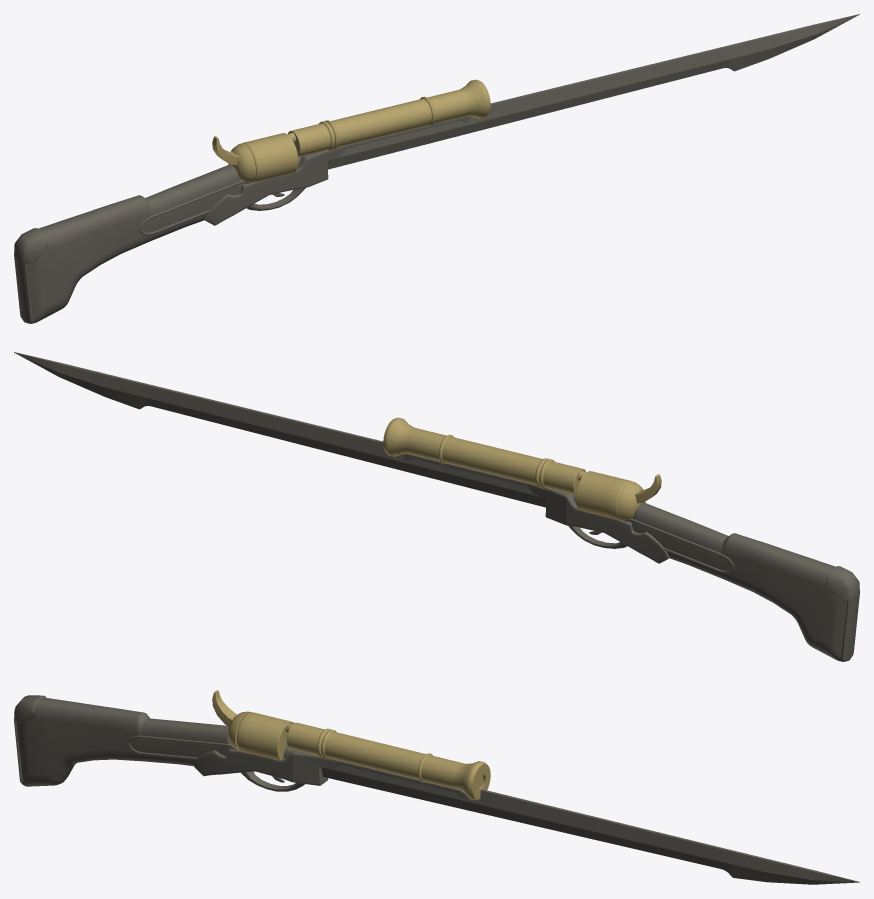
File: Sniper Gun.fbx
3 views of the same model, one above another, from view 1: azimuth 30°, elevation 25°; view 2: azimuth 150°, elevation 25°; view 3: azimuth 330°, elevation 25° (orthographic).
Visible parts, largest first — view 1: Handle_low, Blade_low, Barrel1_low, Frame_low, Cylinder_low, Engraving_low; view 2: Handle_low, Blade_low, Barrel1_low, Frame_low, Cylinder_low, Engraving_low; view 3: Handle_low, Blade_low, Barrel1_low, Frame_low, Cylinder_low, Engraving_low, Grip_low, Hammer_low.
Part boxes in pixels (left/top/right/bottom): Handle_low: left=14, top=156, right=300, bottom=323; Blade_low: left=327, top=14, right=859, bottom=169; Barrel1_low: left=288, top=79, right=490, bottom=156; Frame_low: left=204, top=116, right=470, bottom=225; Cylinder_low: left=228, top=133, right=298, bottom=182; Engraving_low: left=139, top=180, right=249, bottom=235; Handle_low: left=573, top=494, right=859, bottom=661; Blade_low: left=14, top=352, right=546, bottom=507; Barrel1_low: left=383, top=417, right=585, bottom=494; Frame_low: left=403, top=454, right=669, bottom=563; Cylinder_low: left=575, top=471, right=645, bottom=520; Engraving_low: left=624, top=518, right=734, bottom=573; Handle_low: left=14, top=695, right=295, bottom=786; Blade_low: left=321, top=764, right=859, bottom=884; Barrel1_low: left=286, top=722, right=490, bottom=800; Frame_low: left=194, top=749, right=465, bottom=797; Cylinder_low: left=228, top=711, right=293, bottom=760; Engraving_low: left=127, top=735, right=236, bottom=759; Grip_low: left=241, top=771, right=304, bottom=791; Hammer_low: left=212, top=690, right=237, bottom=726.
Size of the model in its own units: 181 by 28.82 by 7.88.
